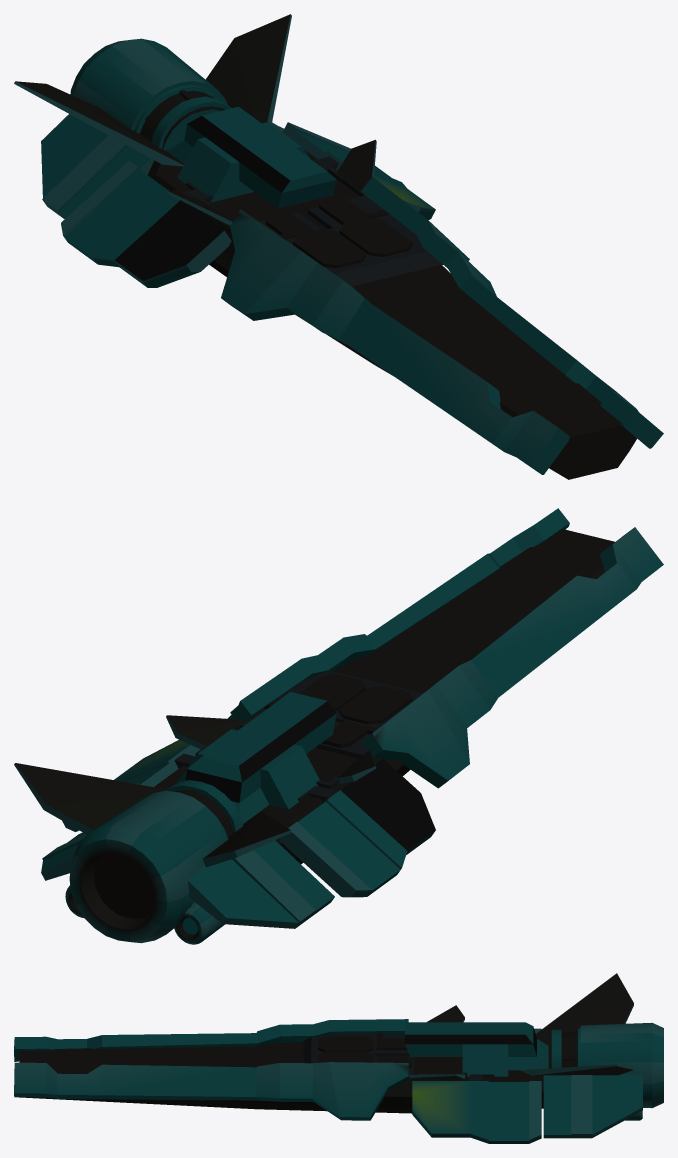
The model's file is Ship_01.fbx.
The picture shows the model from 3 angles, top to bottom: view 1: azimuth 30°, elevation 25°; view 2: azimuth 150°, elevation 25°; view 3: azimuth 270°, elevation 25°; orthographic projection. The views are drawn at different scales.
Visible parts, largest first — view 1: Ship_01; view 2: Ship_01; view 3: Ship_01.
Part boxes in pixels (x1,y1,x2,y2): Ship_01: (14,14,663,479); Ship_01: (14,508,663,944); Ship_01: (14,973,663,1143).
Bounding box in the file's own units: 1781 × 693 × 4778.
